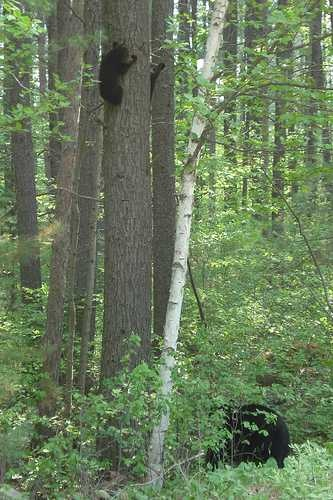bear: (187, 362, 315, 490), (68, 24, 196, 152)
